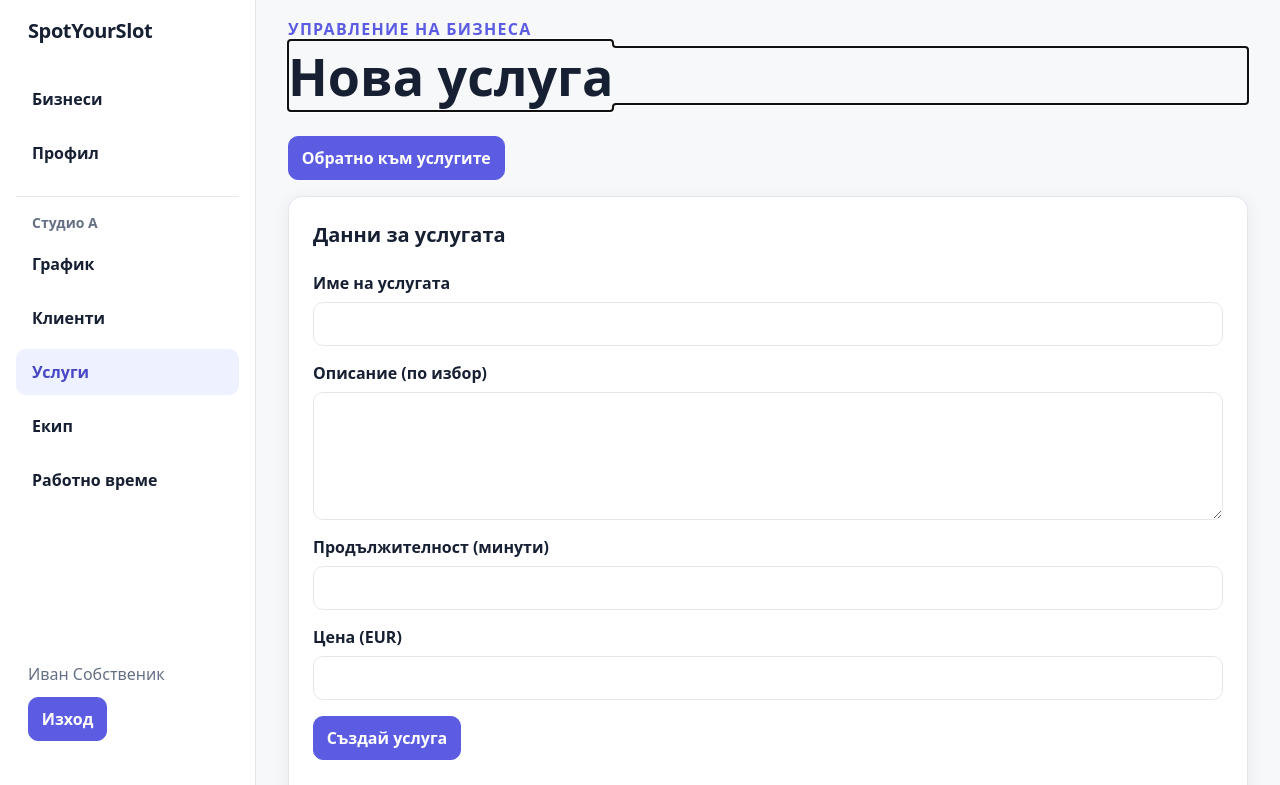
Scenario: a lost Business context on every Business-scoped screen › Services create: a mutation that finds the context lost recovers, but only after the guard allows it
In the field labelled "Име на услугата": coordinates (768, 324) [313, 302, 1223, 346], type "Масаж"
In the number field labelled "Продължителност (минути)": coordinates (768, 588) [313, 566, 1223, 610], type "30"
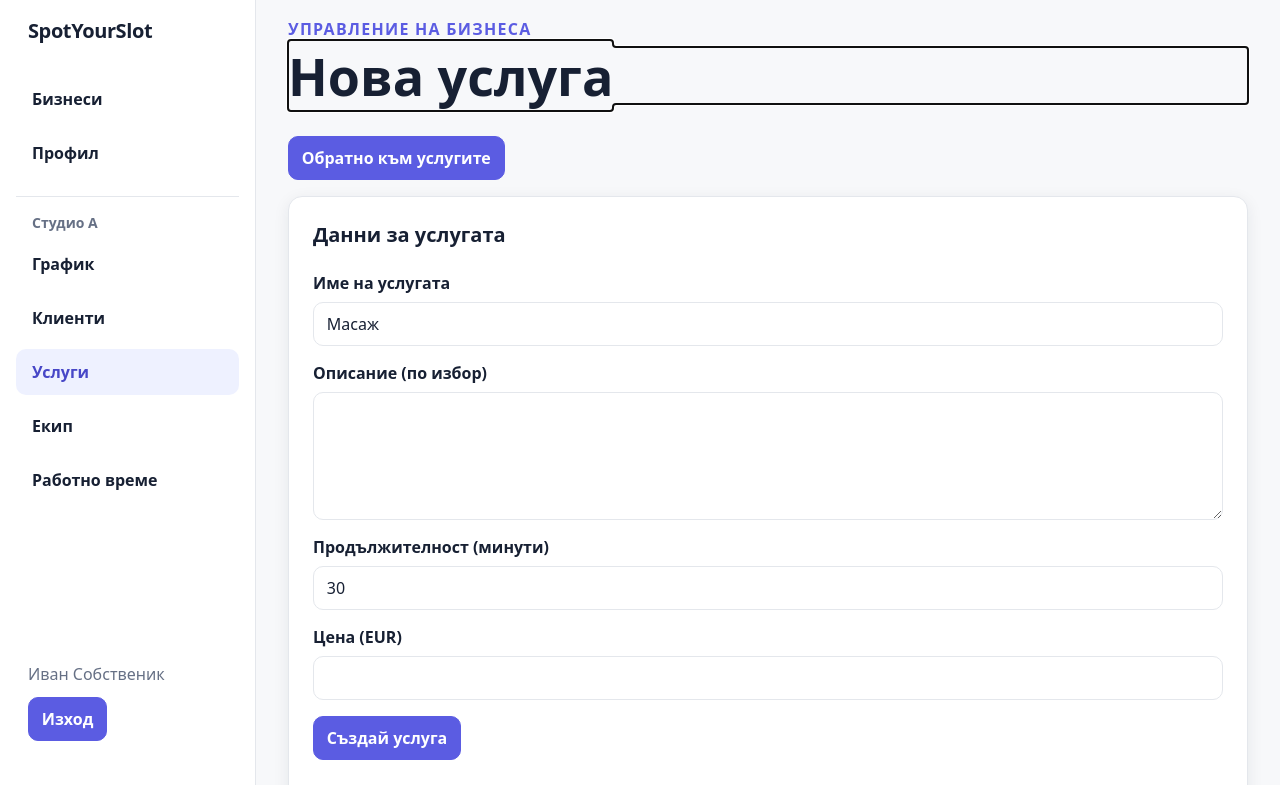
In the field labelled "Цена (EUR)": coordinates (768, 678) [313, 656, 1223, 700], type "20"
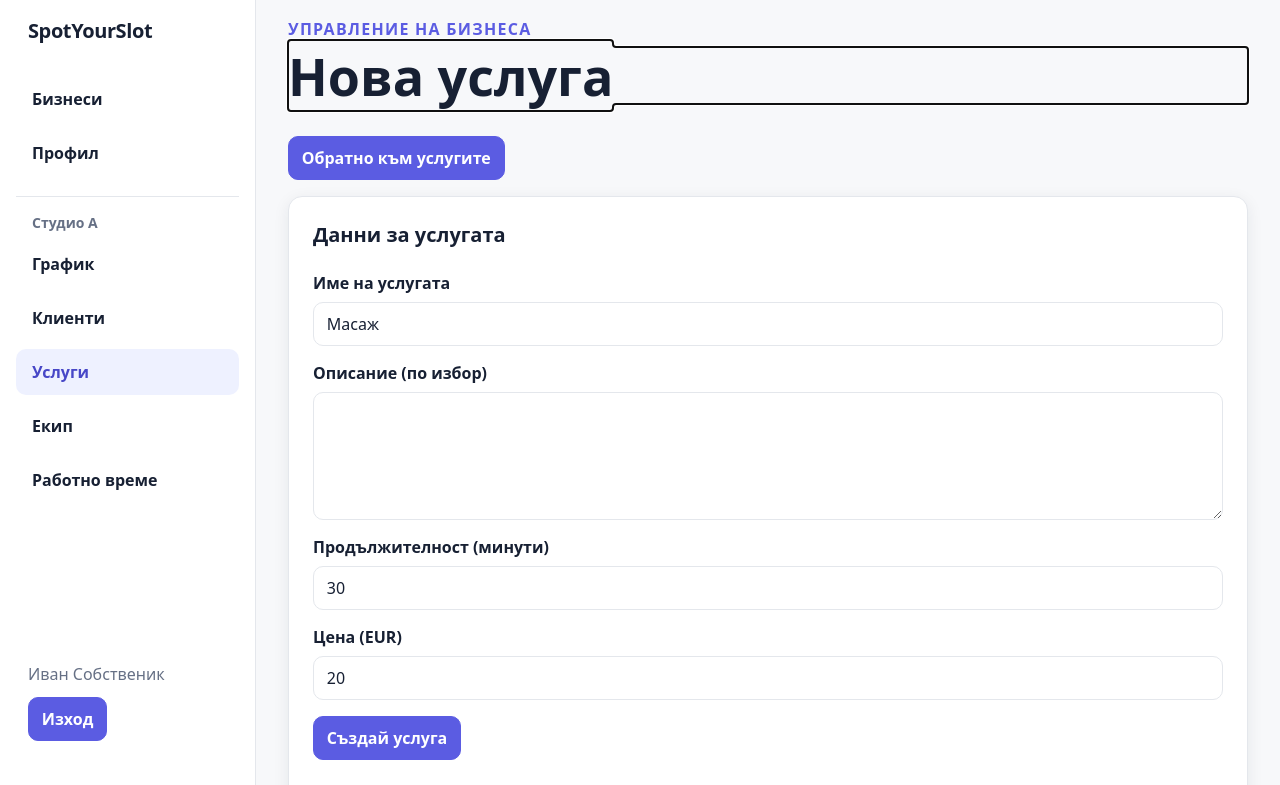
Click the button "Създай услуга": coordinates (387, 738) [313, 716, 461, 760]
(page scrolled)
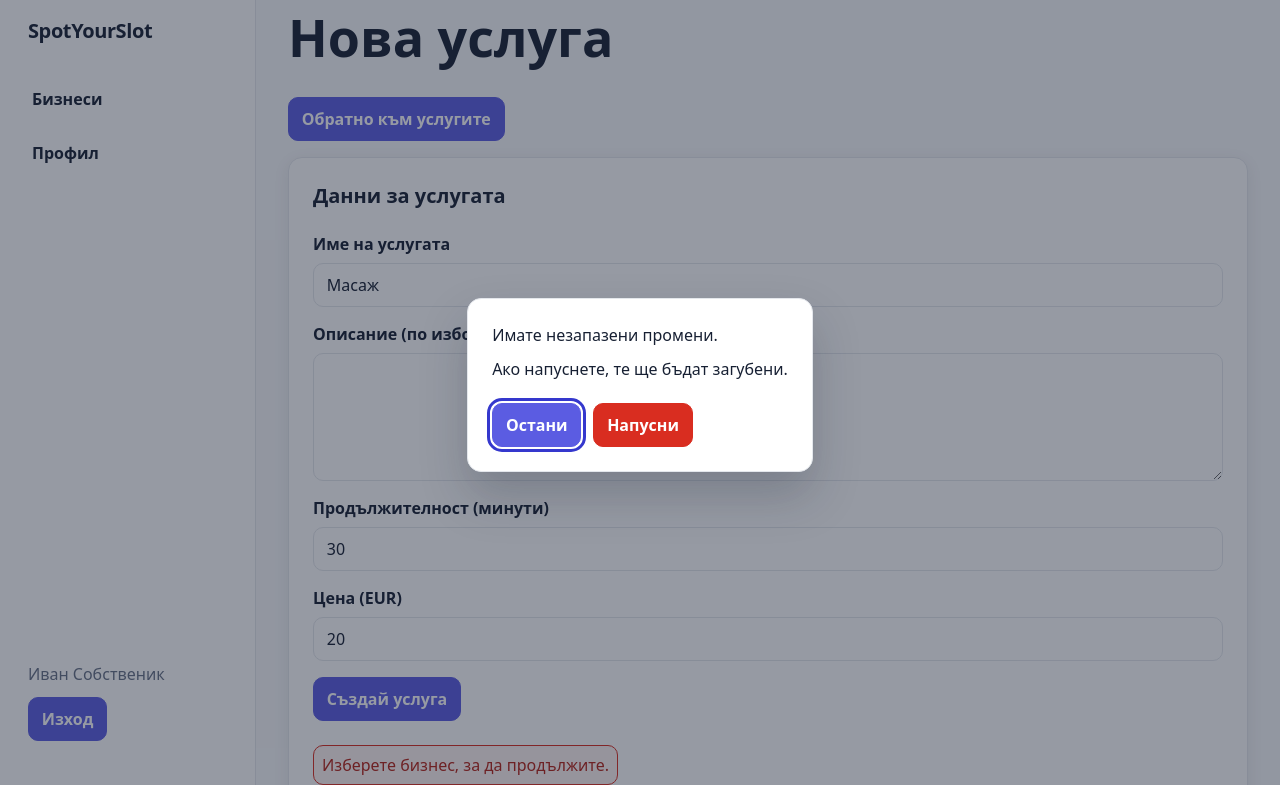
Check: the dialog shows "Имате незапазени промени.", box [492, 324, 718, 346]
Check: the link "Клиенти" is gone
Click the button "Остани": coordinates (537, 425) [492, 403, 581, 447]
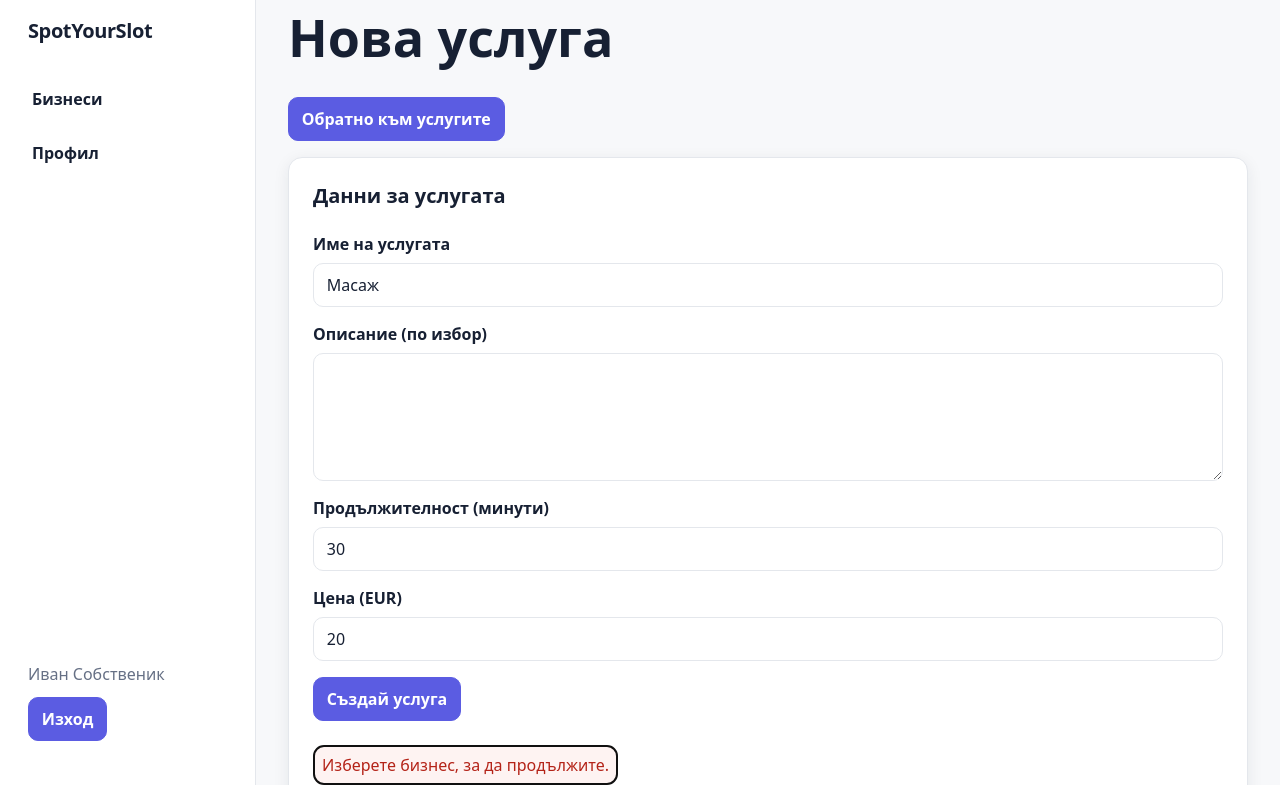
Check: the dialog is gone
Click the link "Бизнеси": coordinates (67, 99) [32, 88, 102, 110]
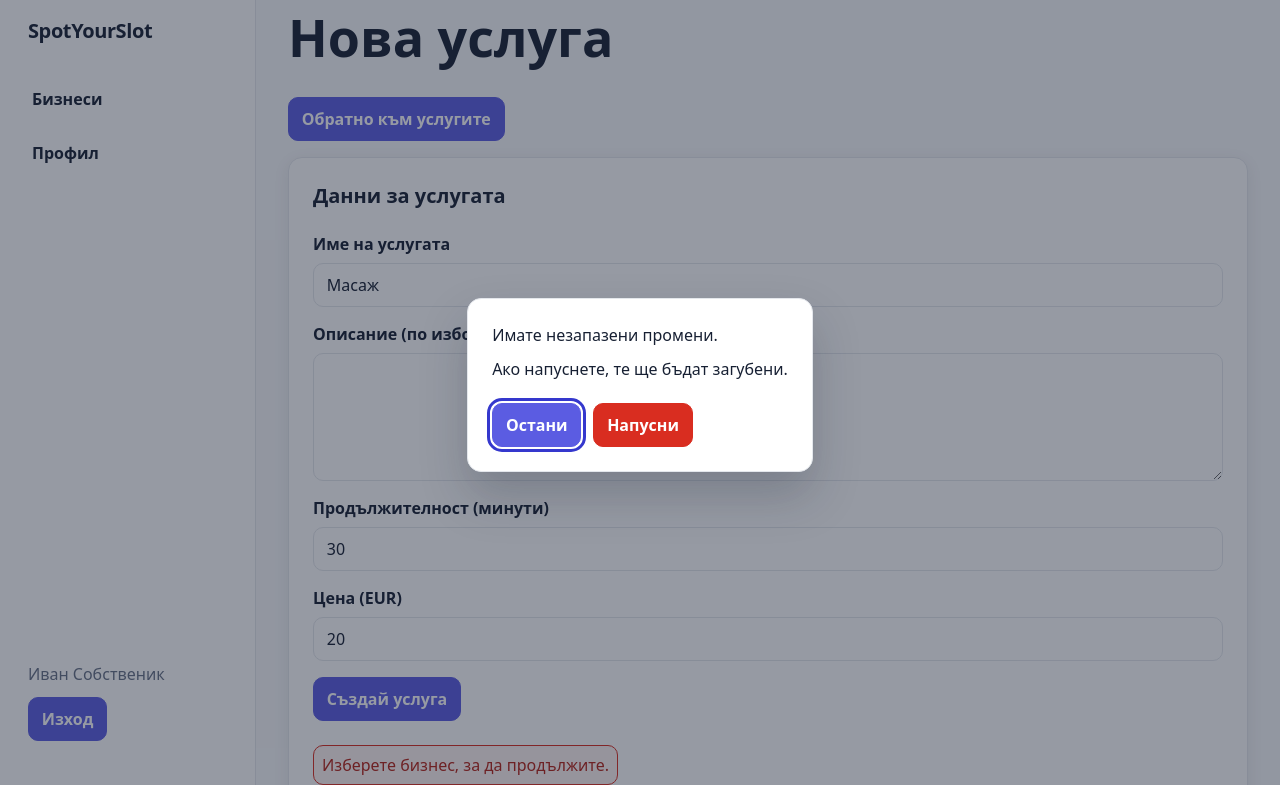
Click the button "Напусни": coordinates (643, 425) [593, 403, 693, 447]
(page scrolled)
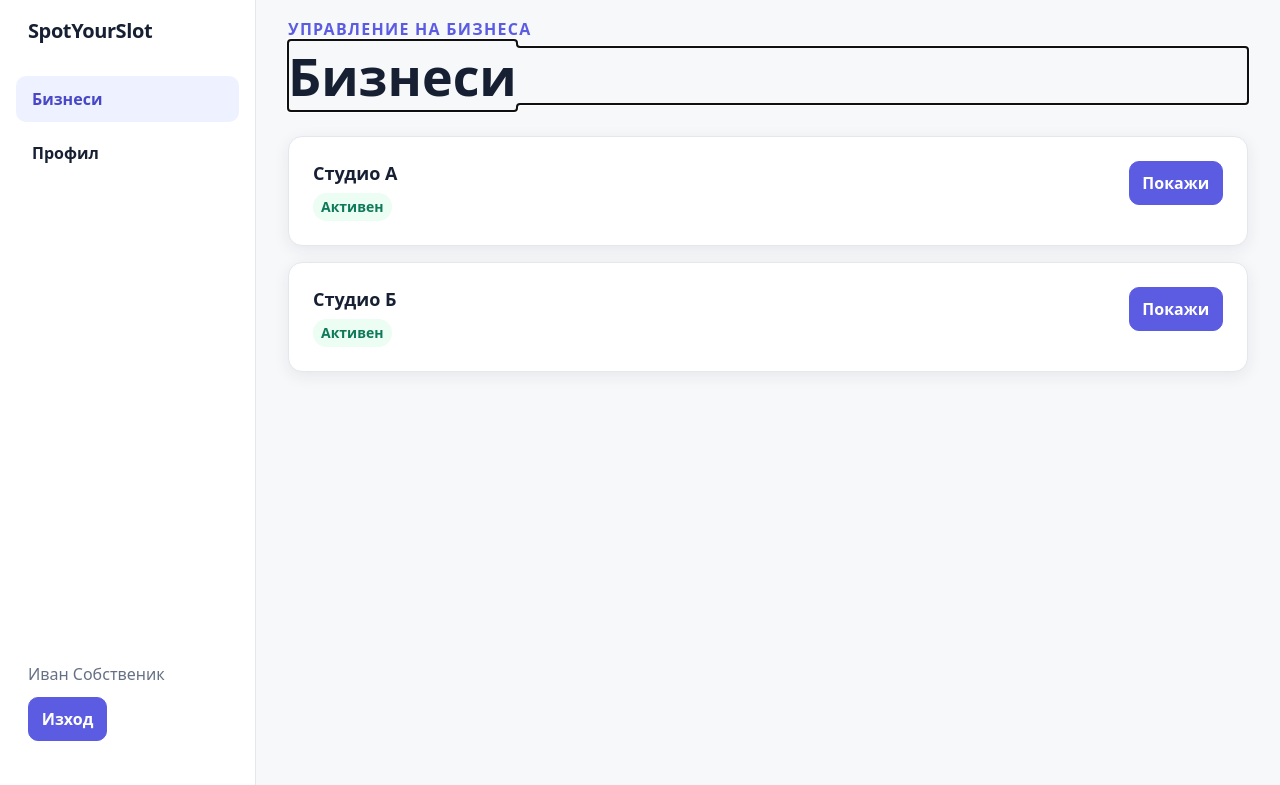
Check: the heading "Бизнеси" is shown, box [288, 40, 517, 111]
